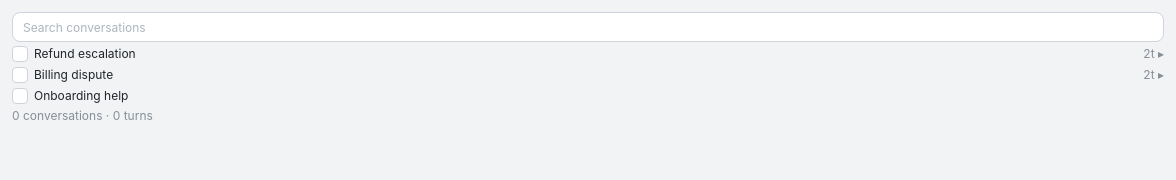
Test: ConversationPicker › selects across conversations and mixes whole + partial items
expect the text "Refund escalation" is shown: met, box [34, 46, 136, 63]
Click the button with aria-label "Toggle turns of Refund escalation": click(85, 54) [34, 46, 1164, 63]
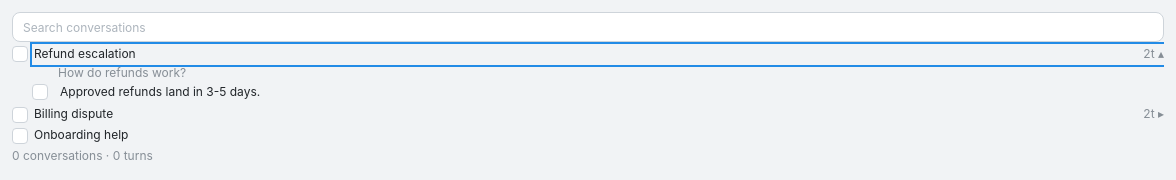
Click the checkbox named "Select turn t2": click(40, 92) [32, 84, 48, 100]
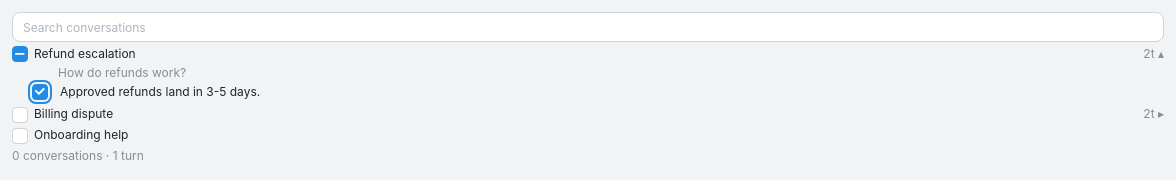
Click the checkbox named "Select Onboarding help": click(20, 136) [12, 128, 28, 144]
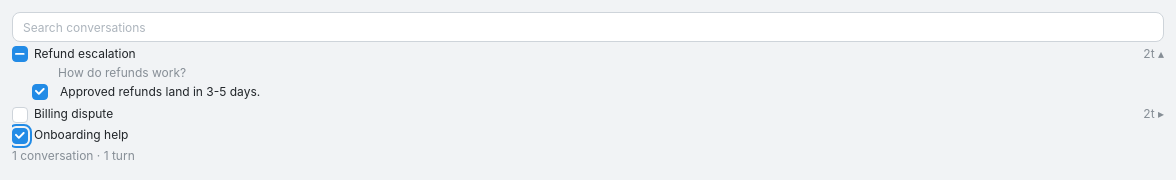
expect the text with test id "picker-summary" reads "1 conversation · 1 turn": met, box [12, 148, 135, 163]
